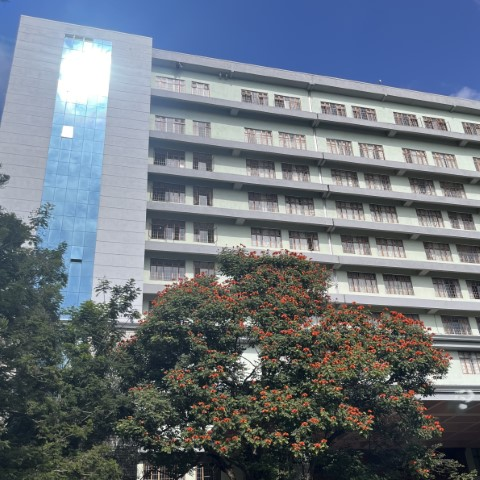Central Block: (4, 7, 480, 395)
